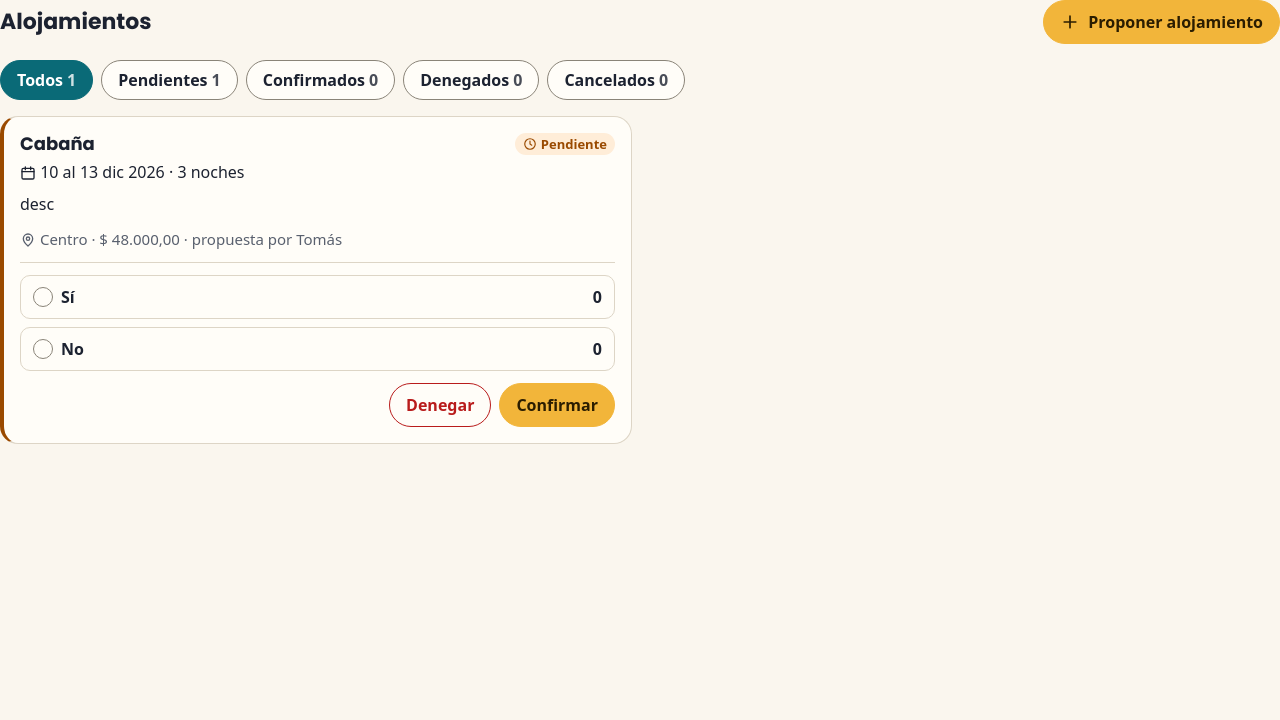
AlojamientosVista › muestra el error de la API al resolver
Click the button "Denegar": (440, 405) [389,383,491,427]
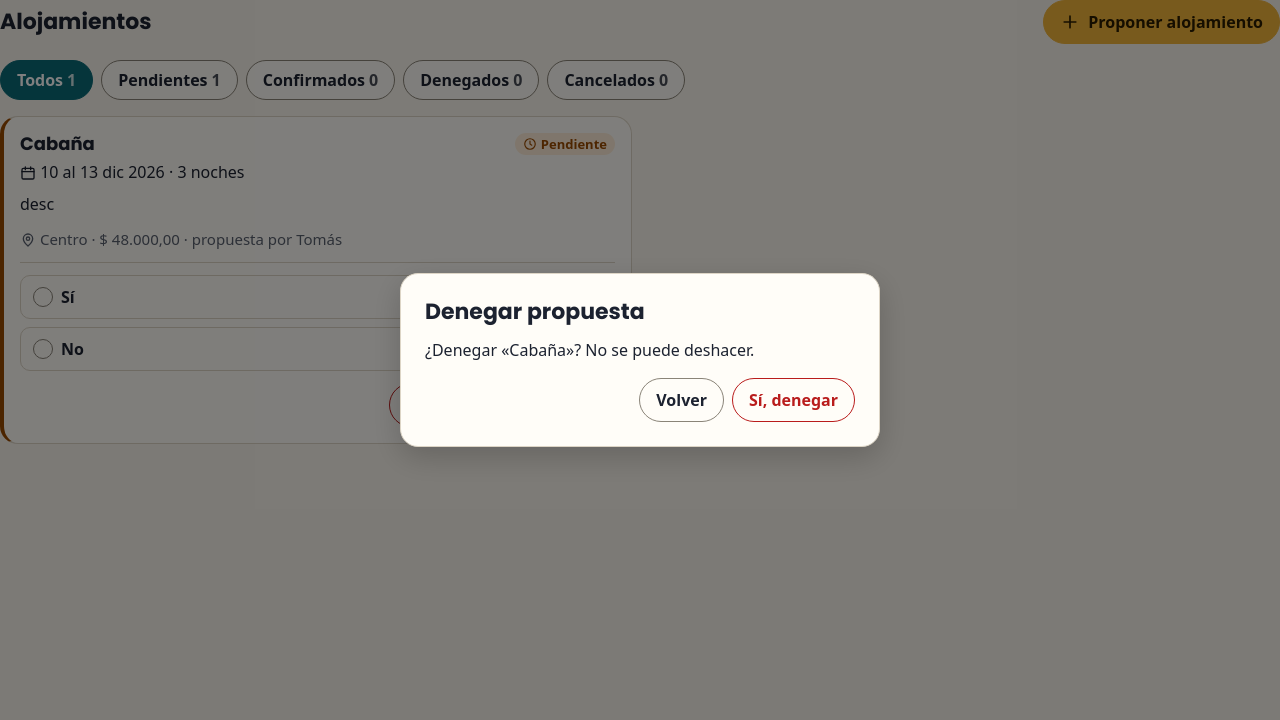
Click the button "Sí, denegar": (794, 400) [732,378,855,422]
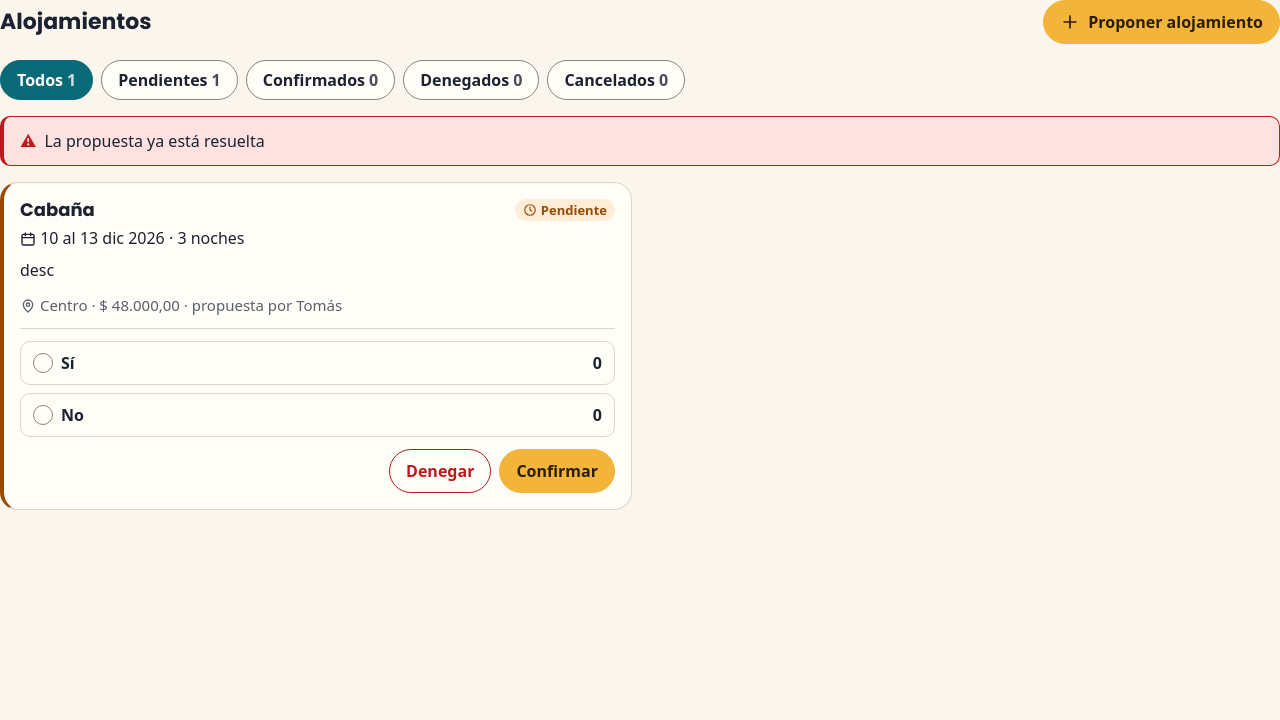
Now the message "⚠ La propuesta ya está resuelta" is shown, box [0,116,1279,166]
